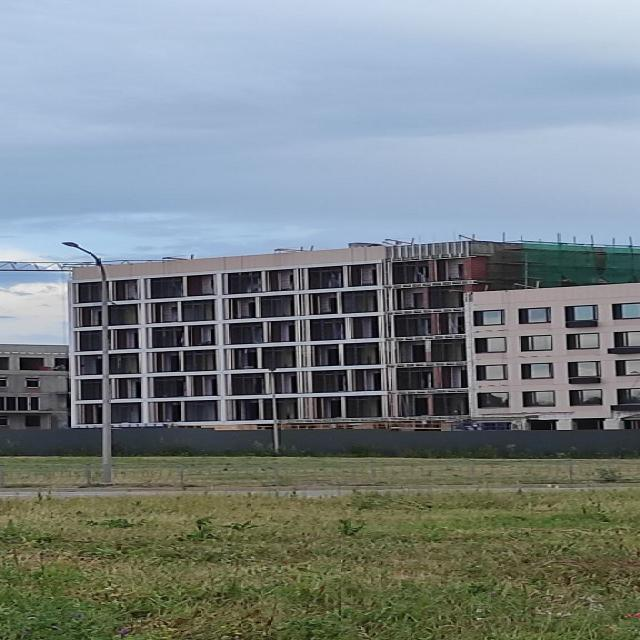Building: (74, 242, 640, 429)
